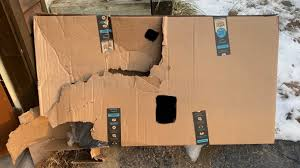damaged package: (42, 15, 172, 115), (4, 103, 120, 165), (155, 94, 179, 128), (141, 26, 163, 49)
